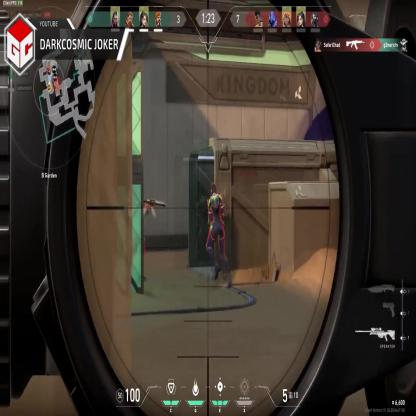enemy: (205, 185, 230, 285), (129, 188, 150, 288)
enemy_head: (131, 188, 144, 204), (209, 183, 217, 194)
